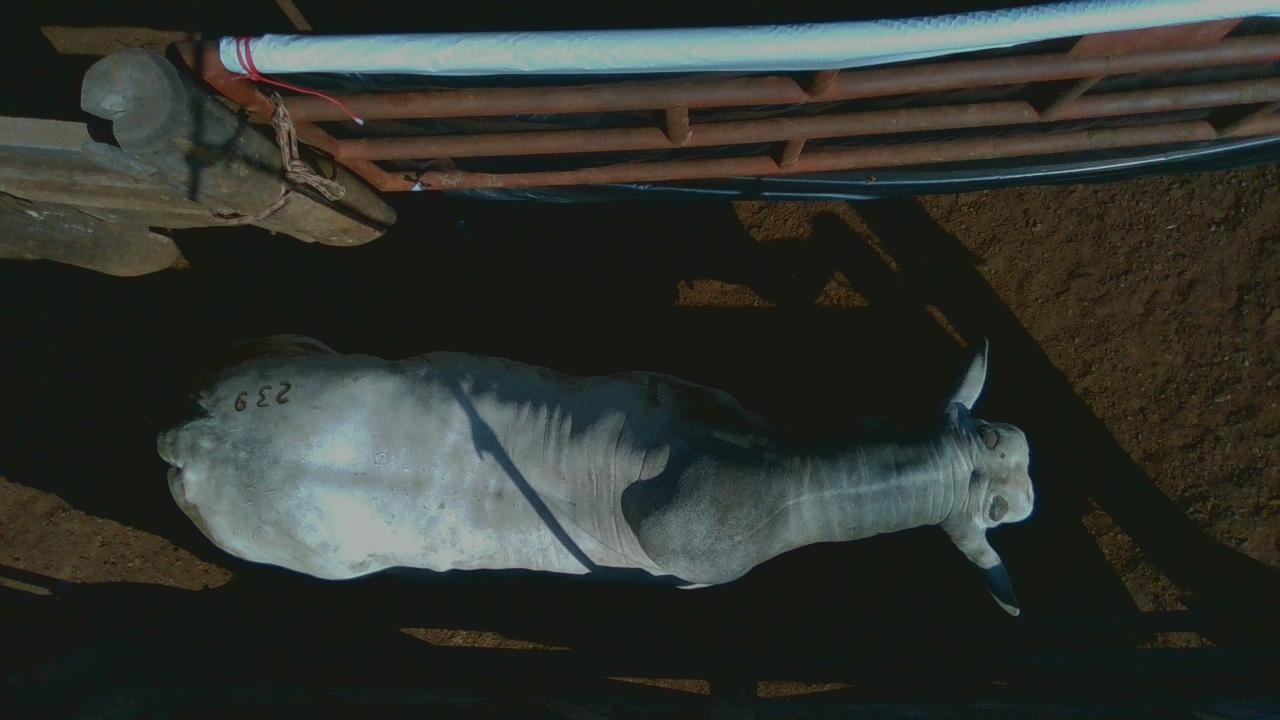cattle: (155, 330, 1034, 616)
